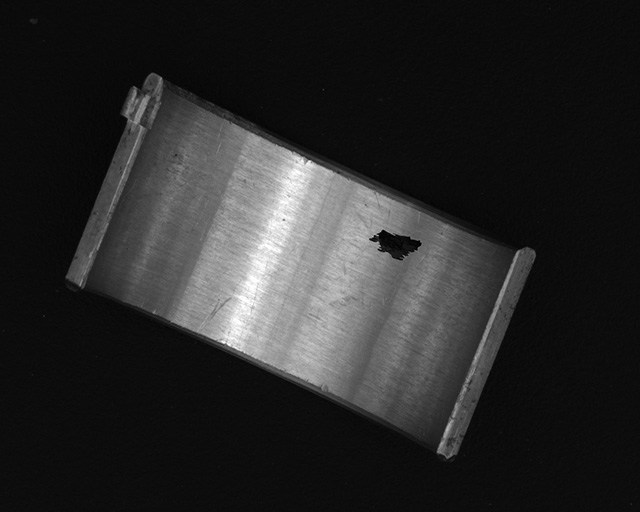blot: (327, 272, 396, 310), (368, 227, 423, 262)
bruise: (321, 383, 330, 394), (301, 157, 310, 166)
nick: (197, 296, 232, 336)
